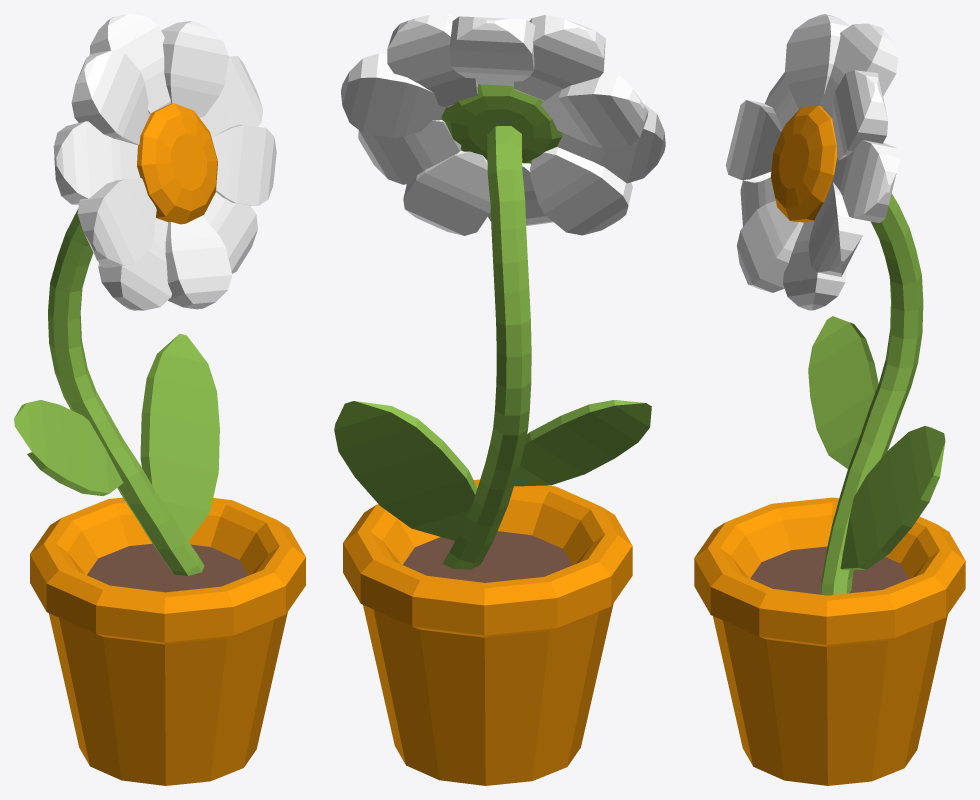
File: group604741097_lev3.003.glb
3 views of the same model, side by side, from view 1: azimuth 30°, elevation 25°; view 2: azimuth 150°, elevation 25°; view 3: azimuth 270°, elevation 25° (orthographic). The views are drawn at different scales.
Visible parts, largest first — view 1: group604741097_lev3.003; view 2: group604741097_lev3.003; view 3: group604741097_lev3.003.
Part boxes in pixels (x1=…): group604741097_lev3.003: x1=14, y1=14, x2=305, y2=785; group604741097_lev3.003: x1=334, y1=14, x2=665, y2=785; group604741097_lev3.003: x1=694, y1=14, x2=965, y2=785.
Bounding box in the file's own units: 1.43 × 3.57 × 1.24.
